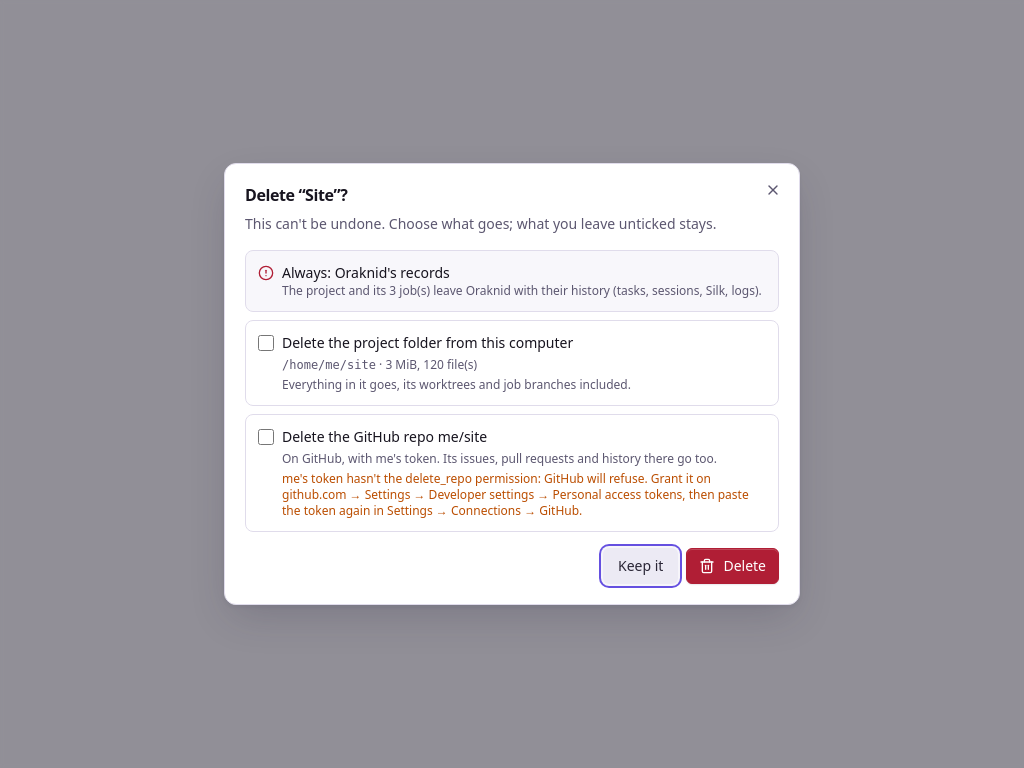
deleting a project › asks for the project's name to delete the folder, shows its size, and lists each step after
The image size is (1024, 768).
Click the checkbox labelled "Delete the project folder from this computer" at coordinates (266, 343), box [258,335,274,351]
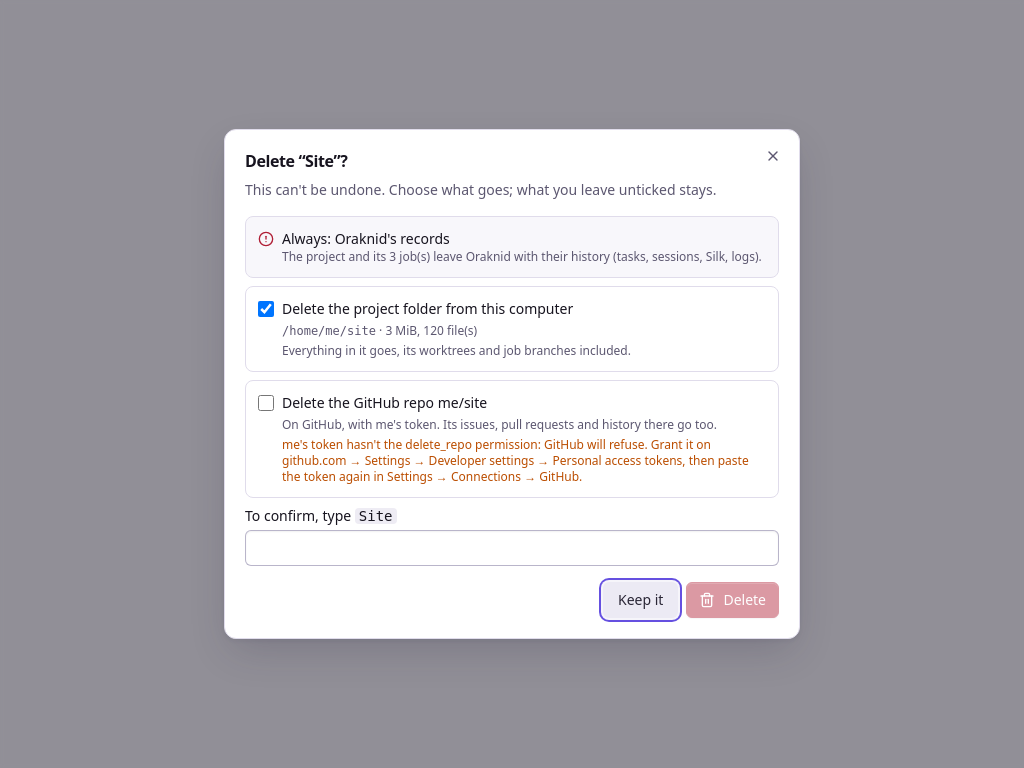
Expected: the text "/home/me/site · 3 MiB, 120 file(s)" is shown, [282,322,477,339]
Result: the button "Delete" is disabled at [686,582,779,618]
Type "Sit" into the field labelled "Type Site to confirm" at coordinates (512, 548), box [245,530,779,566]
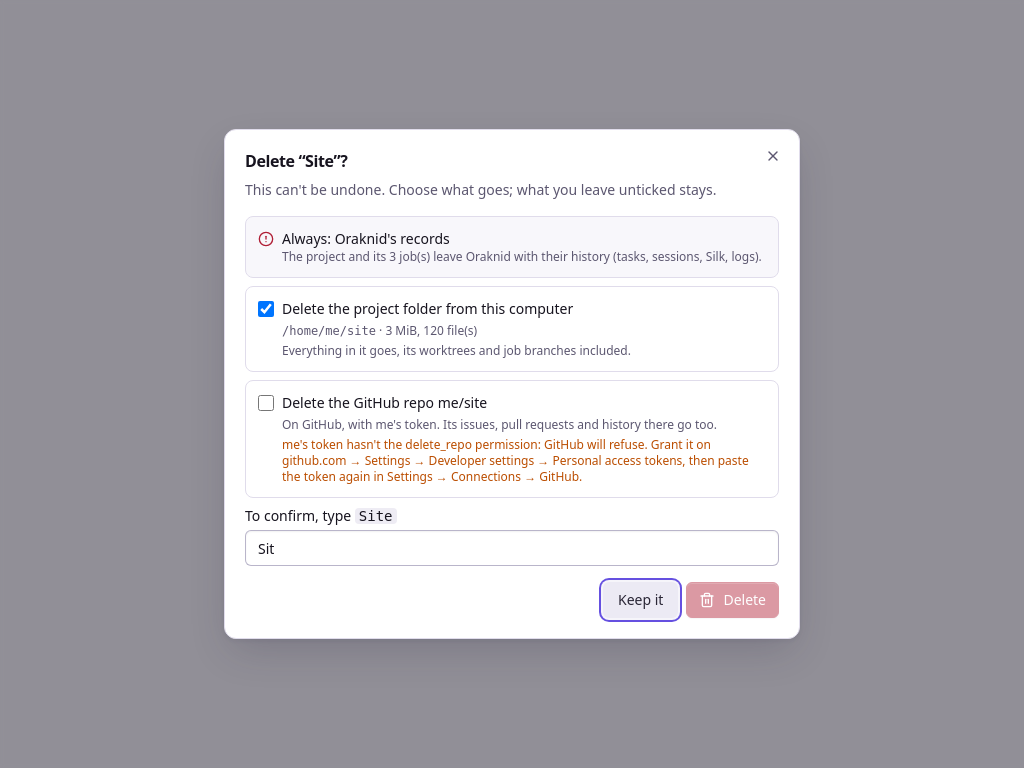
Result: the button "Delete" is disabled at [686,582,779,618]
Replace the text in the field labelled "Type Site to confirm" with "Site" at coordinates (512, 548), box [245,530,779,566]
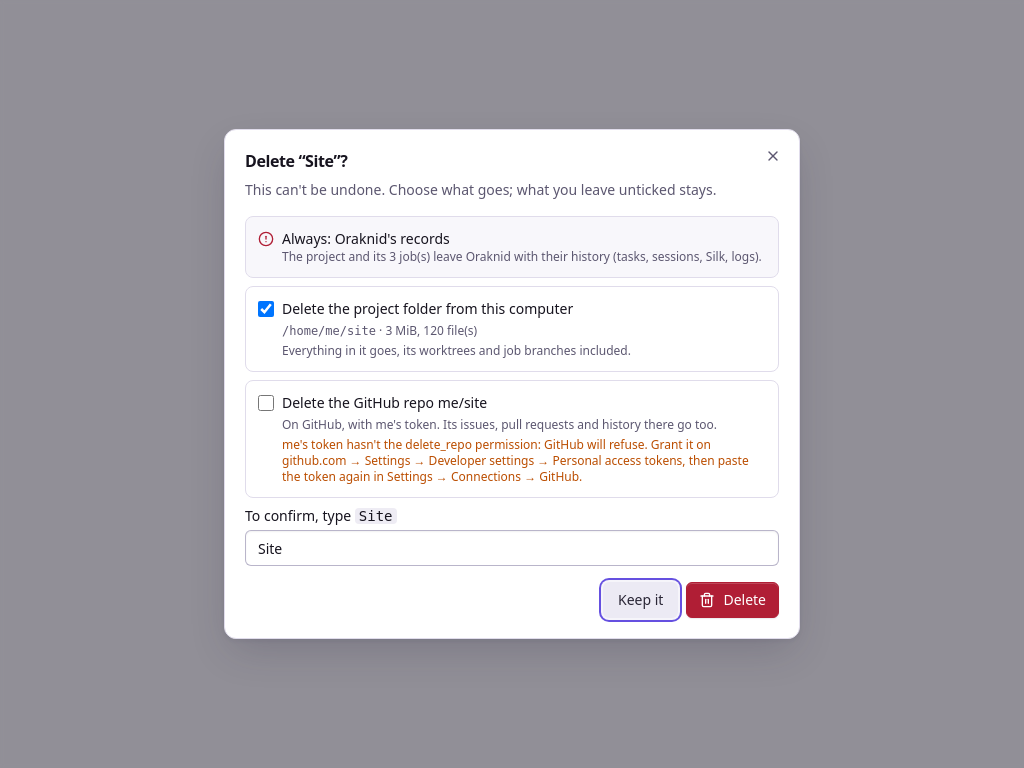
Result: the button "Delete" is enabled at [686,582,779,618]
Note: The GitHub repo too: the project's name still, since the folder goes.
Click the checkbox labelled "Delete the GitHub repo me/site" at coordinates (266, 403), box [258,395,274,411]
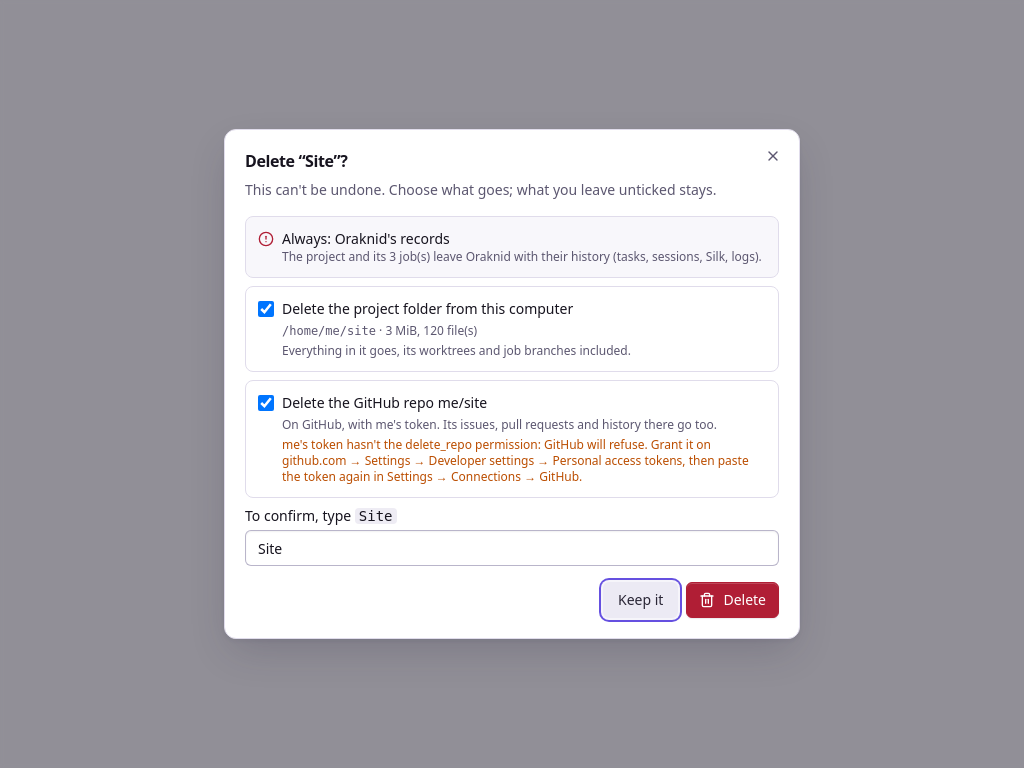
Expected: the text "hasn't the delete_repo permission" is shown, [282,436,749,485]
Click the button "Delete" at coordinates (733, 600), box [686,582,779,618]
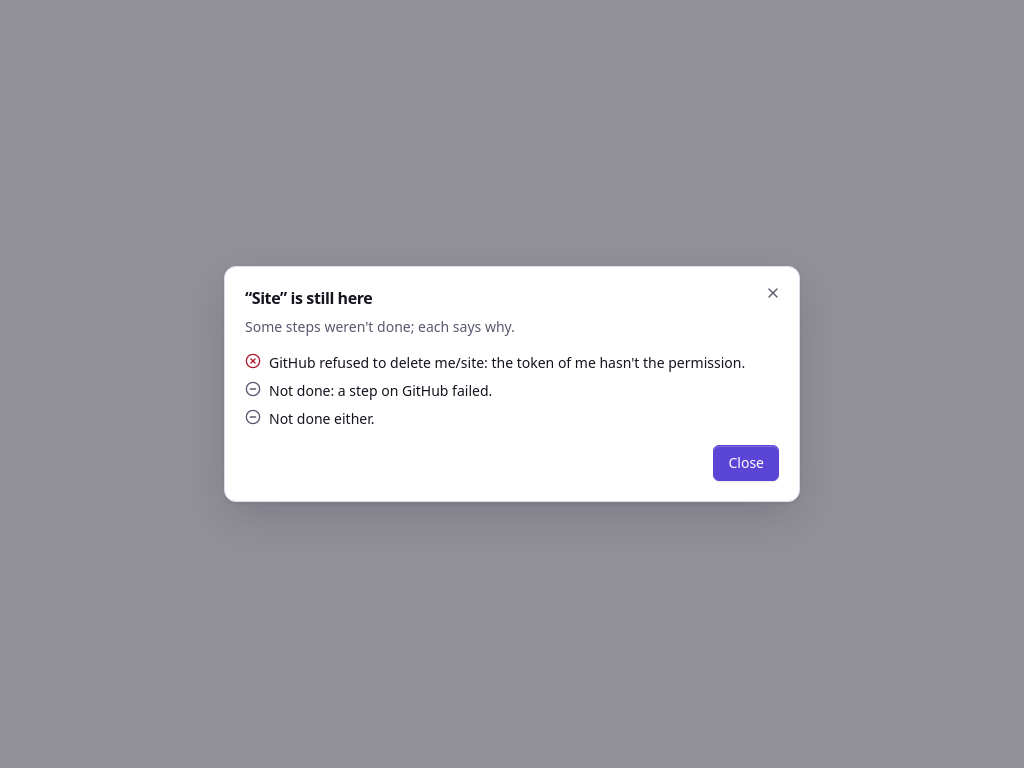
Result: the heading "“Site” is still here" is shown at [245,287,372,309]
